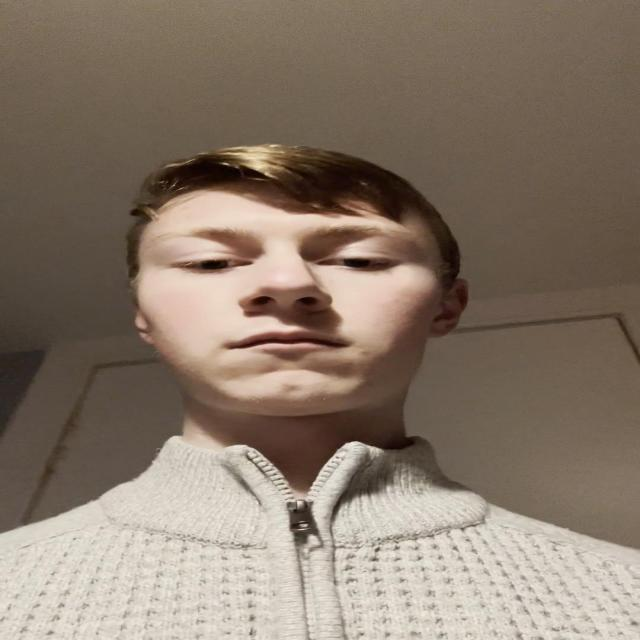no-helmet: (119, 148, 471, 426)
